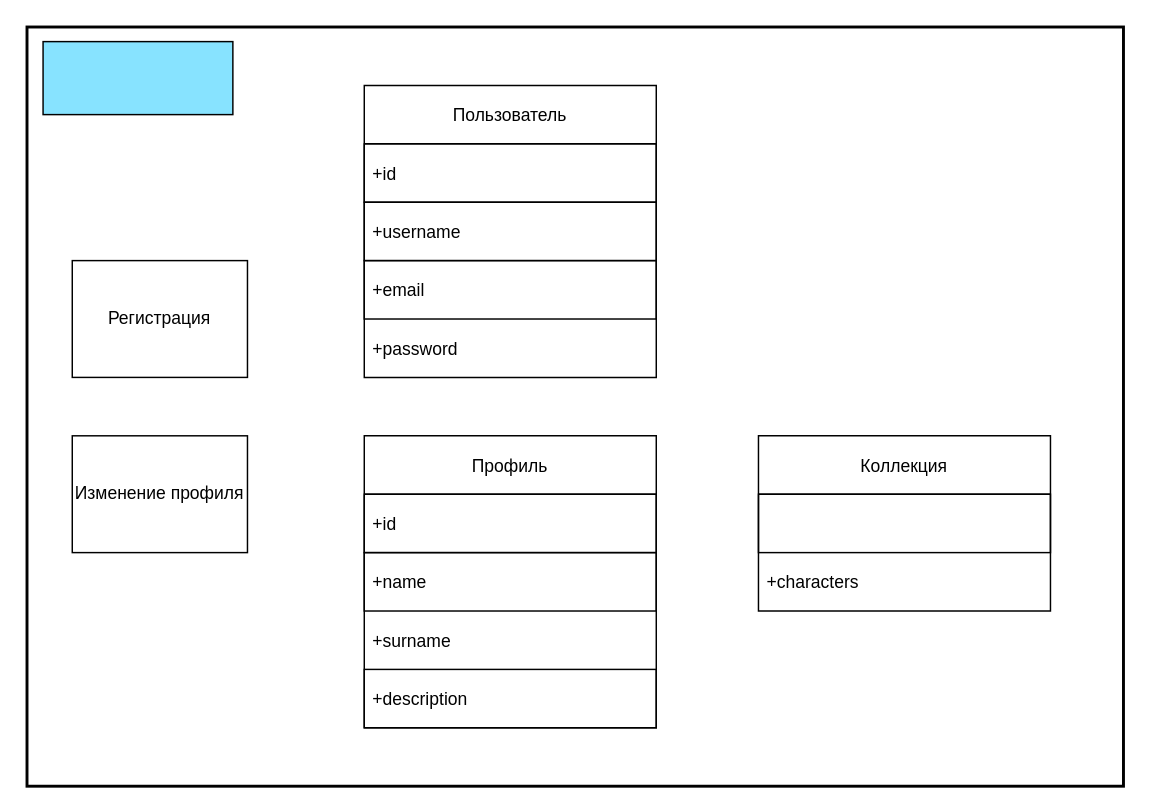
This 1149x812 diagram has some shape labels left out. The shapes that lost their labels are listed below. From the top down, each one's centre as x and y in pixels, then its label:
point 137,77: Микросервис Пользователя
point 903,523: +decks
